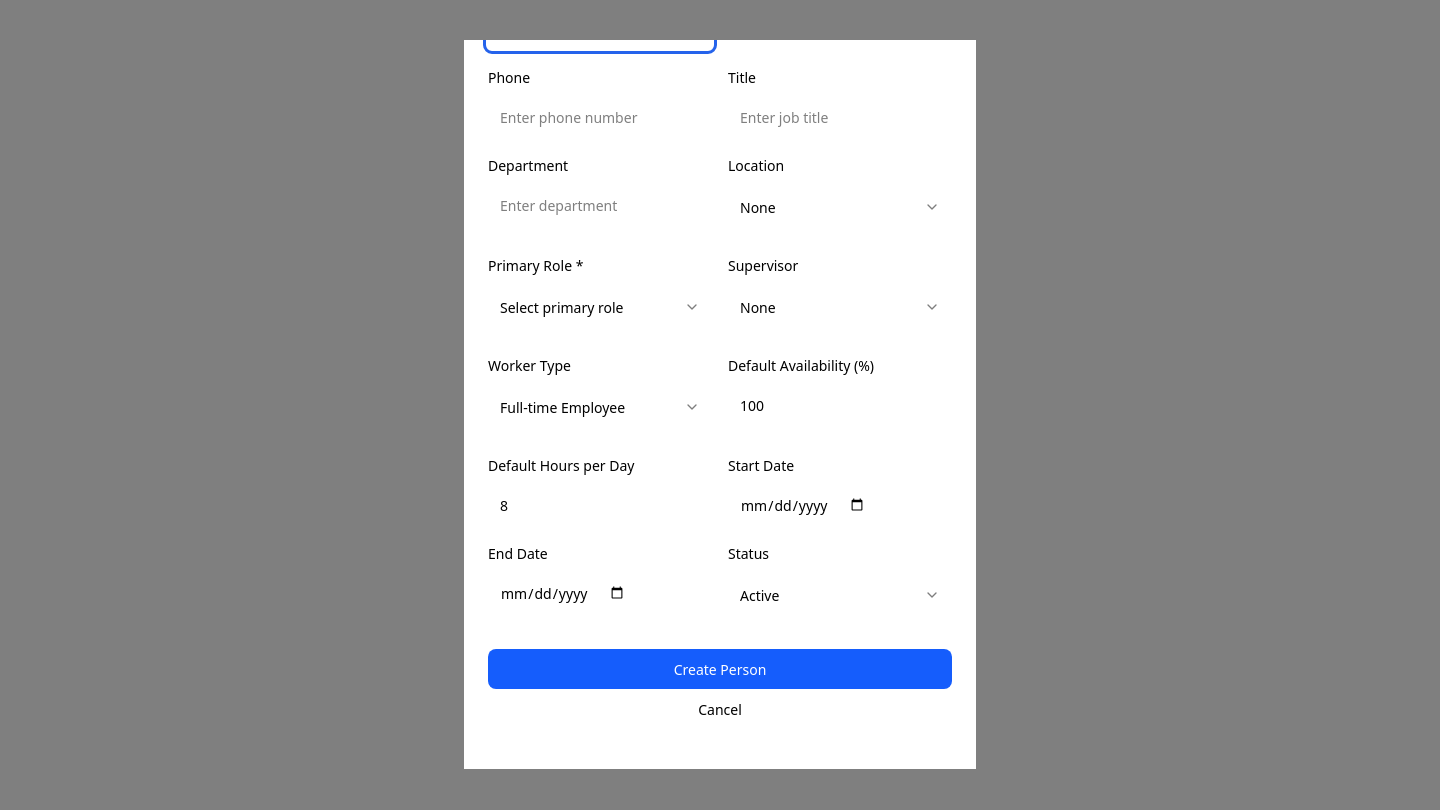
Test: PersonModal › Form Validation › shows error when submitting without name
(page scrolled)
Click the button "Create Person" at (720, 670), box x1=488 y1=650 x2=952 y2=690
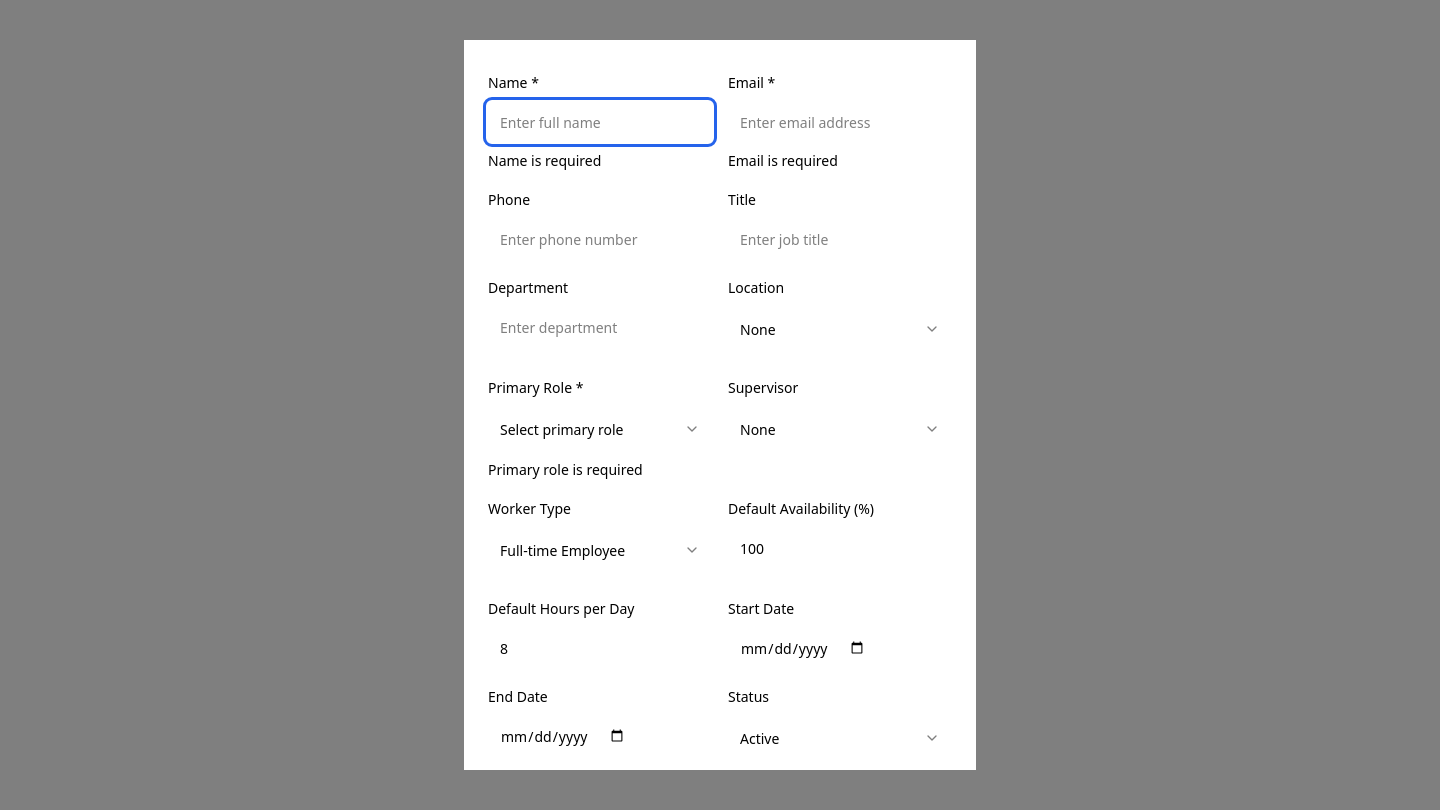
Check: the text "Name is required" is shown, box x1=488 y1=152 x2=601 y2=170
